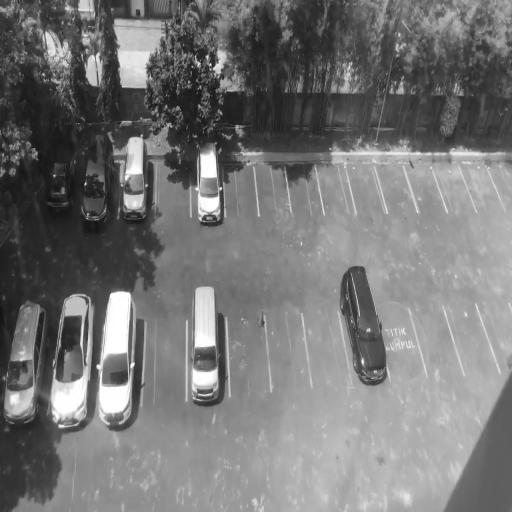Car: (335, 262, 392, 391), (47, 291, 96, 431), (1, 297, 48, 431), (94, 290, 139, 427), (77, 131, 115, 231), (191, 283, 220, 407), (43, 132, 83, 215), (195, 137, 224, 228), (122, 136, 150, 226)
Space Available: (302, 311, 353, 392), (443, 303, 500, 372), (141, 320, 186, 407), (266, 313, 313, 394), (227, 314, 271, 397), (410, 308, 463, 376), (379, 311, 426, 380), (477, 300, 512, 371), (431, 166, 478, 215), (403, 164, 447, 215), (460, 165, 505, 214), (253, 164, 293, 217), (315, 165, 357, 215), (375, 166, 418, 214), (345, 167, 387, 216), (155, 162, 191, 219), (285, 165, 326, 214), (225, 165, 259, 218), (487, 163, 511, 211), (487, 163, 511, 209)
